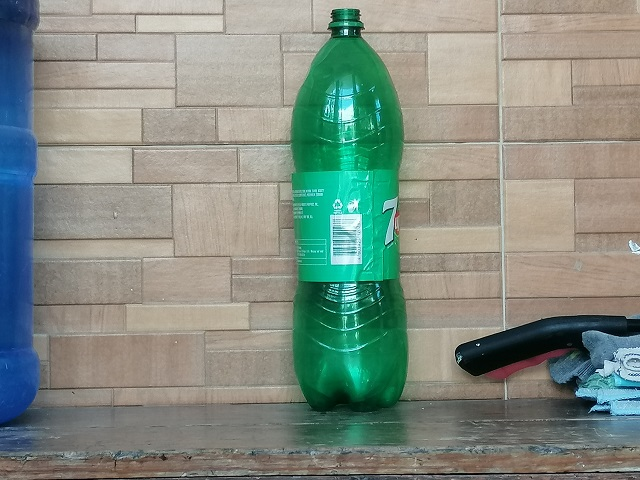bottle: (287, 8, 408, 412)
wall: (42, 6, 281, 404), (422, 6, 640, 308)
